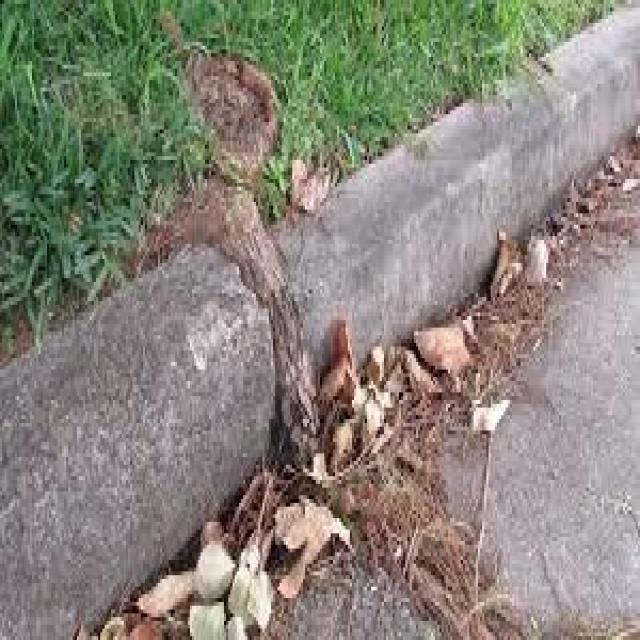bump: (0, 58, 609, 596)
